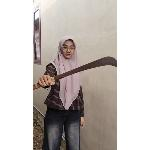Golok: (33, 54, 117, 92)
